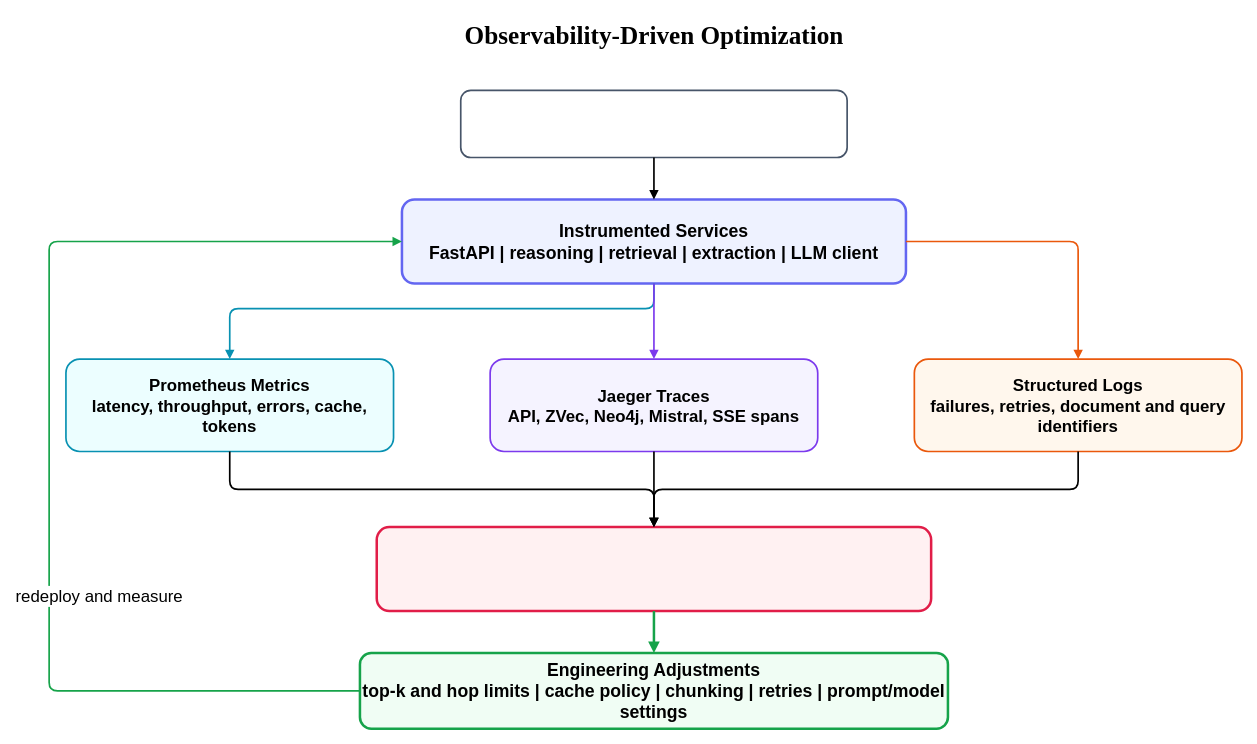
Some shapes in this 1257 by 744 pixel diagram are drawn without their labels. The box of each missing label's shape, as (x1, y1, x2, y2) in pixels:
Grafana Analysis correlate slow traces, metric spikes, and failures: (375, 525, 932, 612)
User Query / Ingestion Job: (459, 89, 848, 158)
